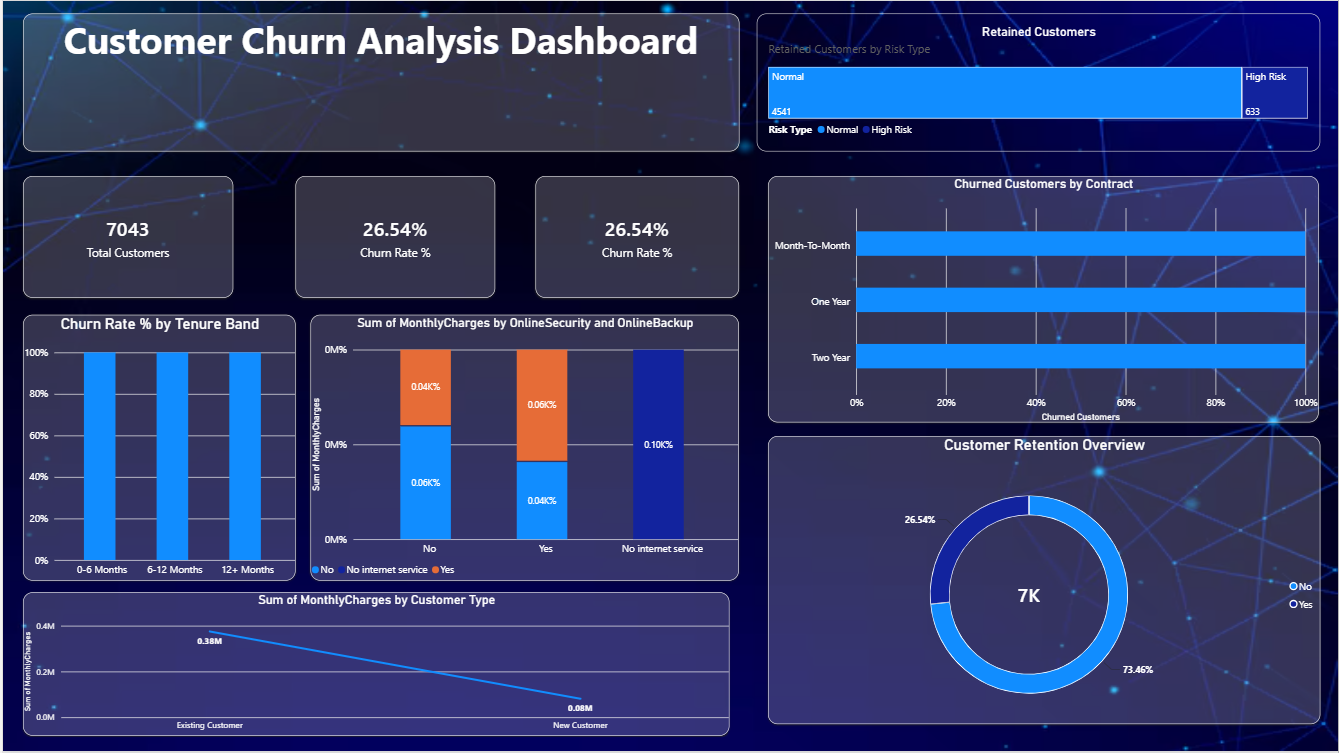

This screenshot's page, from the dashboard's own definition file:
{"tool":"powerbi","page":{"name":"Page 1","canvas":[1920,1080],"ordinal":0},"visuals":[{"type":"textbox","box":[28,18,1030,198],"z":0},{"type":"treemap","title":"Retained Customers","fields":{"Group":["telco_churn_unclean.Risk Type"],"Values":["Calculated Measure.Retained Customers"]},"box":[1084,18,810,198],"z":1},{"type":"card","fields":{"Values":["Calculated Measure.Total Customers"]},"box":[28,252,302.5,175],"z":2},{"type":"card","fields":{"Values":["Calculated Measure.Churn Rate %"]},"box":[420,252,287.5,175],"z":3},{"type":"donutChart","title":"Customer Retention Overview","fields":{"Category":["telco_churn_unclean.Churn"],"Y":["Calculated Measure.Total Customers"]},"box":[1100,626,794,414],"z":4},{"type":"card","fields":{"Values":["Calculated Measure.Churn Rate %"]},"box":[766,252,292.5,175],"z":5},{"type":"hundredPercentStackedBarChart","fields":{"Category":["telco_churn_unclean.Contract"],"Y":["Calculated Measure.Churned Customers"]},"box":[1100,252,792,354],"z":6},{"type":"hundredPercentStackedColumnChart","fields":{"Category":["telco_churn_unclean.OnlineSecurity"],"Series":["telco_churn_unclean.OnlineBackup"],"Y":["Sum(telco_churn_unclean.MonthlyCharges)"]},"box":[442,452,616,382],"z":7},{"type":"hundredPercentStackedColumnChart","fields":{"Category":["telco_churn_unclean.Tenure Band"],"Y":["Calculated Measure.Churn Rate %"]},"box":[28,452,392,382],"z":8},{"type":"lineChart","fields":{"Category":["telco_churn_unclean.Customer Type"],"Y":["Sum(telco_churn_unclean.MonthlyCharges)"]},"box":[28,850,1016,206],"z":9}]}

Visuals, with their boxes in screenshot pixels (x1, y1, x2, y2), scaled from the page's 1920x1080 canvas onto the 1340x753 screenshot:
textbox: box=[20, 13, 738, 151]
"Retained Customers" treemap: box=[757, 13, 1322, 151]
card - Calculated Measure.Total Customers: box=[20, 176, 231, 298]
card - Calculated Measure.Churn Rate %: box=[293, 176, 494, 298]
"Customer Retention Overview" donutChart: box=[768, 436, 1322, 725]
card - Calculated Measure.Churn Rate %: box=[535, 176, 739, 298]
hundredPercentStackedBarChart - telco_churn_unclean.Contract x Calculated Measure.Churned Customers: box=[768, 176, 1320, 423]
hundredPercentStackedColumnChart - telco_churn_unclean.OnlineSecurity x telco_churn_unclean.OnlineBackup: box=[308, 315, 738, 581]
hundredPercentStackedColumnChart - telco_churn_unclean.Tenure Band x Calculated Measure.Churn Rate %: box=[20, 315, 293, 581]
lineChart - telco_churn_unclean.Customer Type x Sum(telco_churn_unclean.MonthlyCharges): box=[20, 593, 729, 736]
